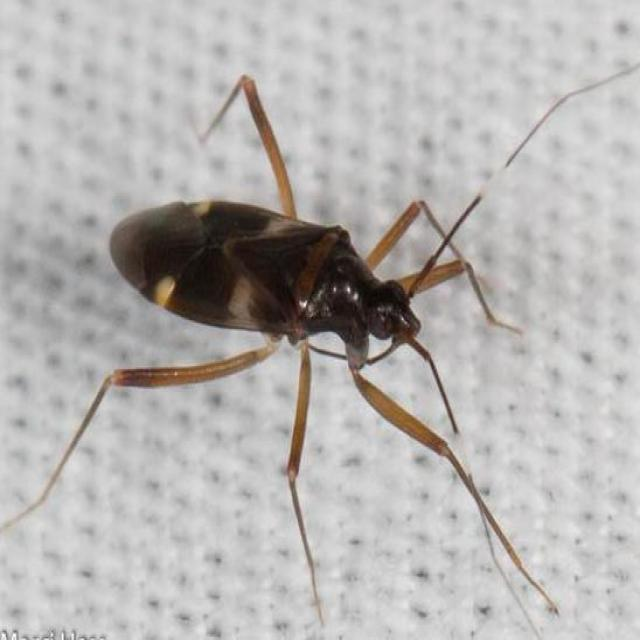Miridae-Adult-: (45, 67, 562, 623)
